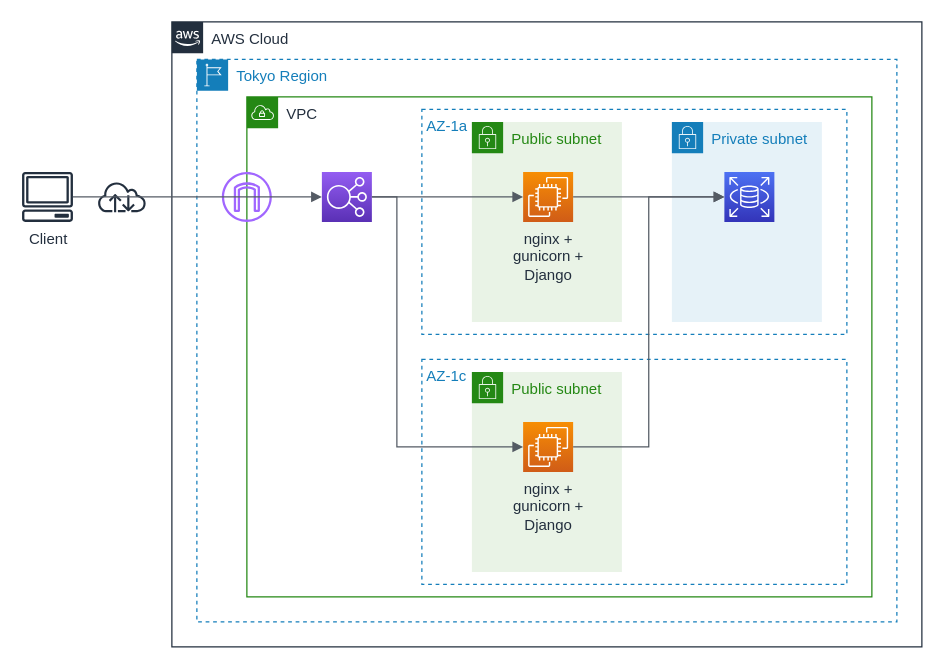
Image size: 944x669. Some labels were removed from this diagram. The centre of each missing label's shape, as x and y in pixels:
"ALB" belongs at point (346, 196).
"Internet" belongs at point (121, 196).
"Internet GW" belongs at point (246, 196).
"MySQL" belongs at point (748, 196).
